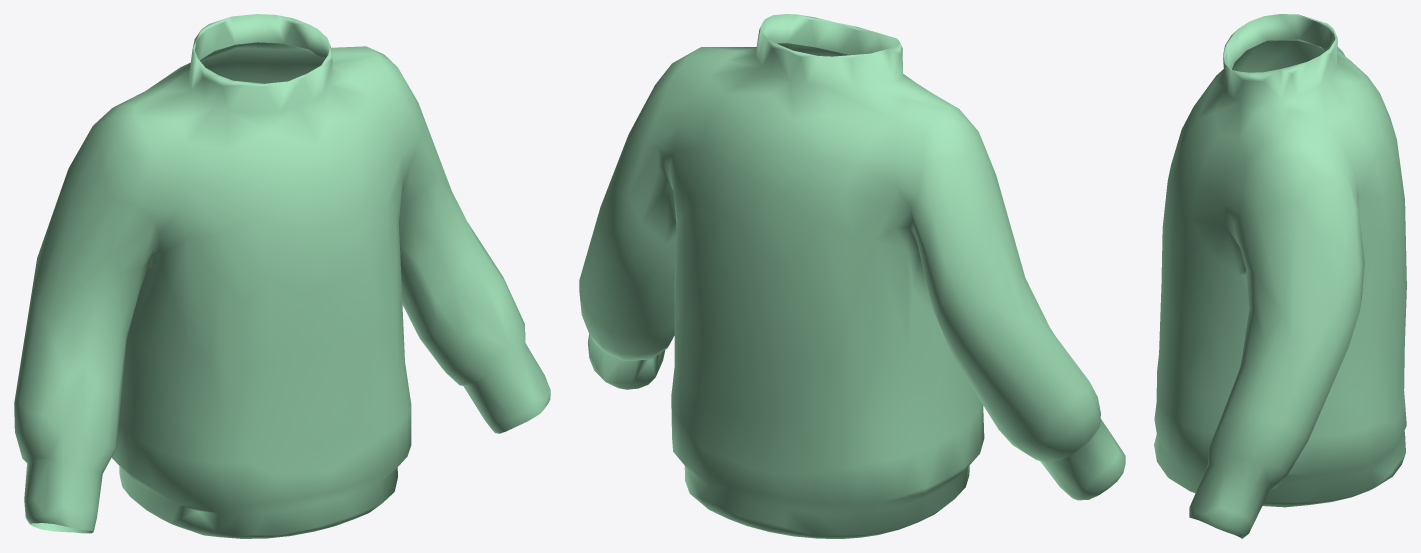
The model's file is maglioncinoleggero.fbx.
3 renders of one model, left to right at view 1: azimuth 30°, elevation 25°; view 2: azimuth 150°, elevation 25°; view 3: azimuth 270°, elevation 25°, orthographic. The views are drawn at different scales.
Visible parts, largest first — view 1: Maglione; view 2: Maglione; view 3: Maglione.
Boxes of the visible parts, x1=… form: Maglione: x1=14, y1=14, x2=550, y2=538; Maglione: x1=579, y1=14, x2=1125, y2=538; Maglione: x1=1154, y1=14, x2=1406, y2=538.
Bounding box in the file's own units: 328 × 270 × 147.
